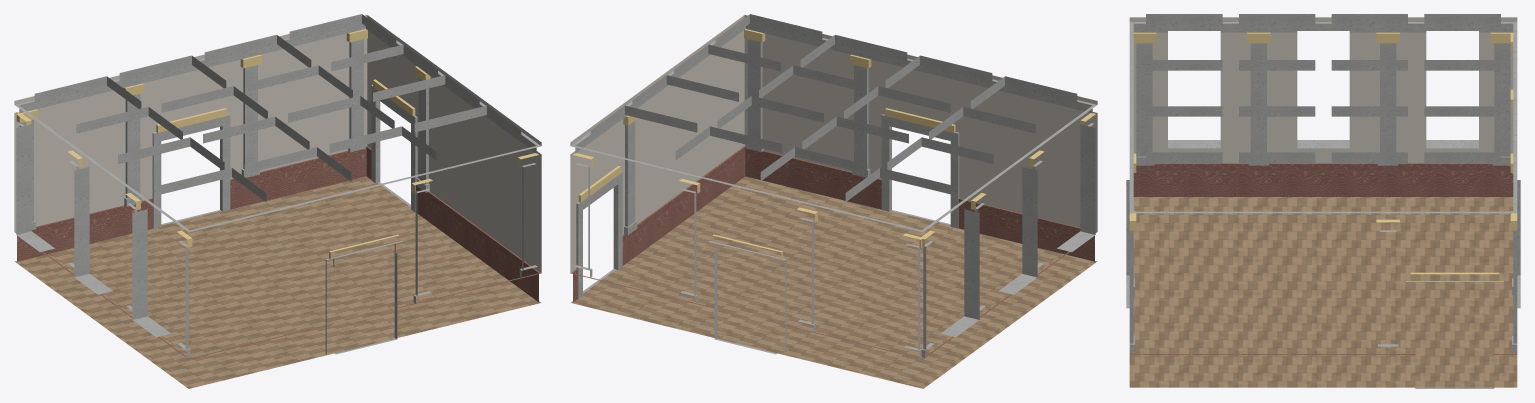
Rendered from einstruct.glb.
3 renders of one model, left to right at view 1: azimuth 30°, elevation 25°; view 2: azimuth 150°, elevation 25°; view 3: azimuth 270°, elevation 25°, orthographic. The views are drawn at different scales.
Parts seen in each view (by area): view 1: einstruct; view 2: einstruct; view 3: einstruct.
Part boxes in pixels (box(x1,y1,x2,y2)): einstruct: box(14, 14, 541, 388); einstruct: box(570, 14, 1097, 388); einstruct: box(1126, 14, 1520, 388).
Bounding box in the file's own units: 14.5 × 6.35 × 12.
Materials: 7 (4 with a texture image).
